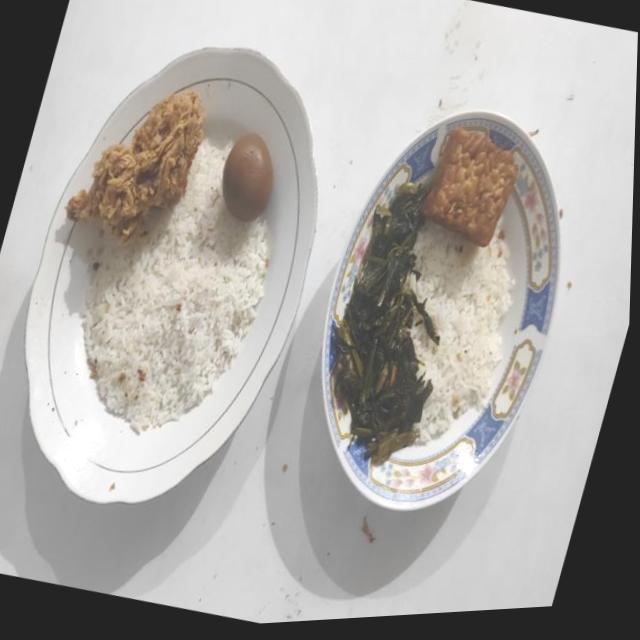nasi_putih: (82, 139, 268, 432), (409, 223, 513, 444)
tempe_goreng: (422, 127, 516, 246)
tumis_kangkung: (330, 182, 439, 464)
